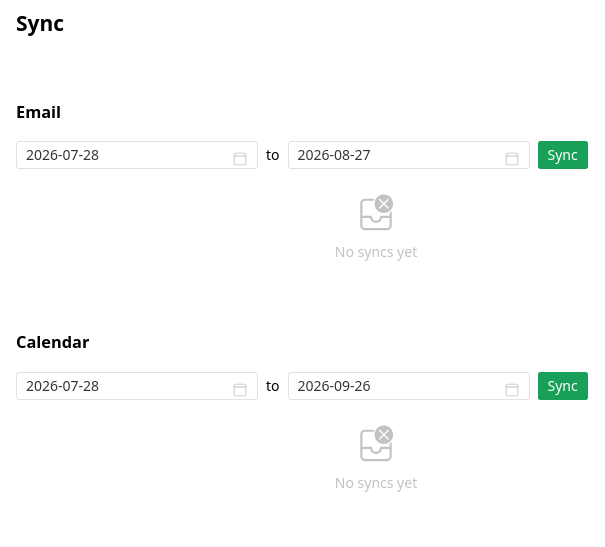
Test: SyncPage › renders a failure result with the error text
The width and height of the screenshot is (605, 547).
Click the 1st button "Sync": coordinates (563, 155) x1=538 y1=141 x2=588 y2=169
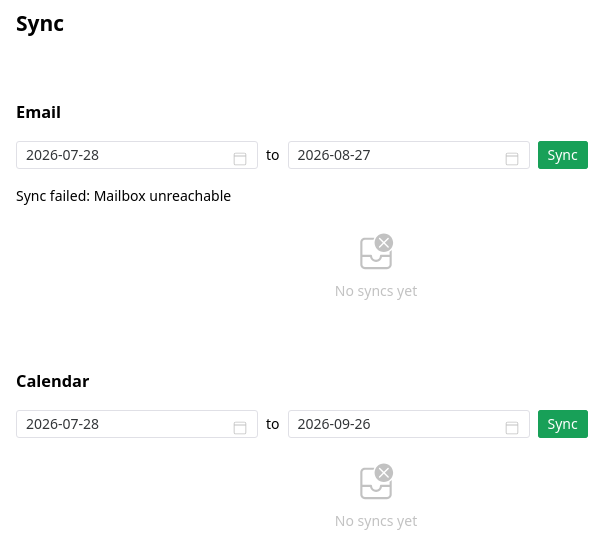
Expected: the text with test id "sync-result" shows "Mailbox unreachable", x1=16 y1=186 x2=231 y2=205
